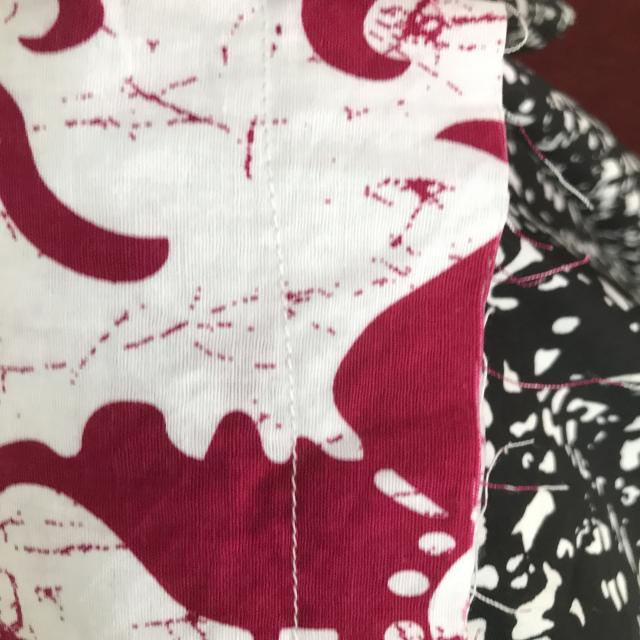good: (276, 477, 316, 619)
